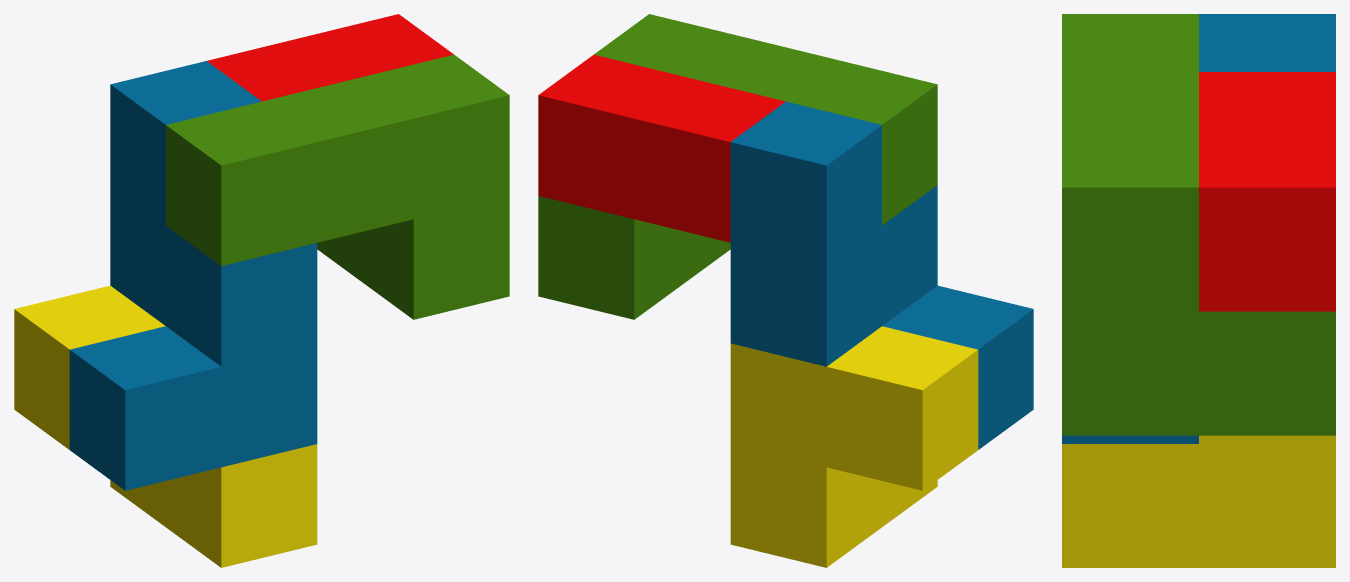
3 views of the same model, side by side, from view 1: azimuth 30°, elevation 25°; view 2: azimuth 150°, elevation 25°; view 3: azimuth 270°, elevation 25° (orthographic). The views are drawn at different scales.
Visible parts, largest first — view 1: mergedBlocks(Clone); view 2: mergedBlocks(Clone); view 3: mergedBlocks(Clone).
Part boxes in pixels (x1=…): mergedBlocks(Clone): x1=14, y1=14, x2=509, y2=567; mergedBlocks(Clone): x1=538, y1=14, x2=1033, y2=567; mergedBlocks(Clone): x1=1062, y1=14, x2=1335, y2=567.
Size of the model in its own units: 4 by 4 by 2.
Materials: 4 (4 with a texture image).
